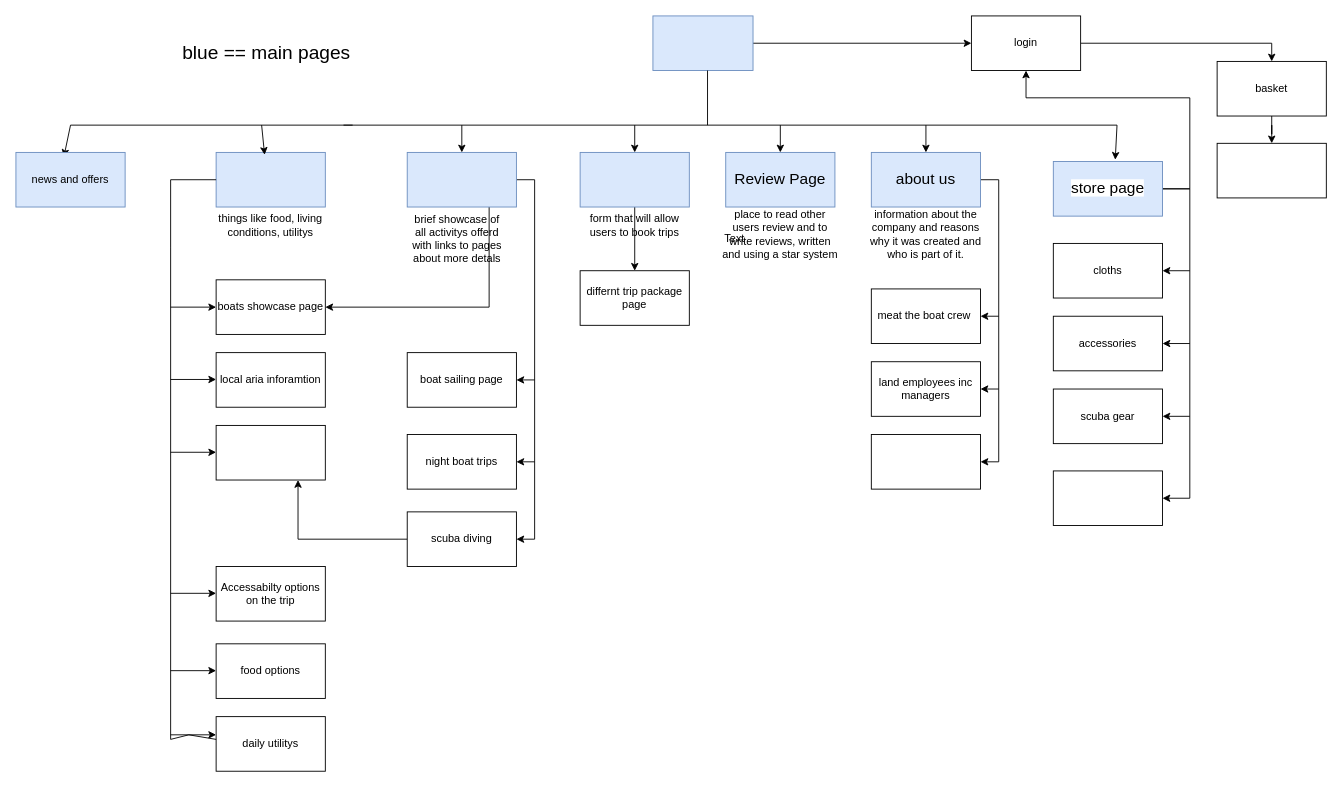
The diagram is 1342 pixels wide and 787 high, and some of its shapes have lost their labels. Here are the shapes that lost their labels. From the top down, the centre of each, then its label:
(x=702, y=43): Home Page
(x=270, y=179): whats included
(x=461, y=179): Activity's Page
(x=634, y=179): Bookings Page
(x=1271, y=170): checkout
(x=270, y=452): sea life page
(x=925, y=461): history of company
(x=1107, y=498): sailing equipment
